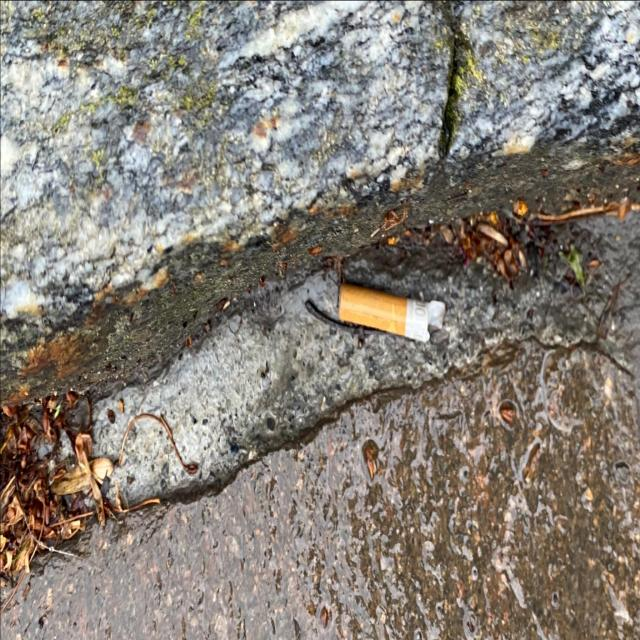other waste: (337, 280, 446, 344)
